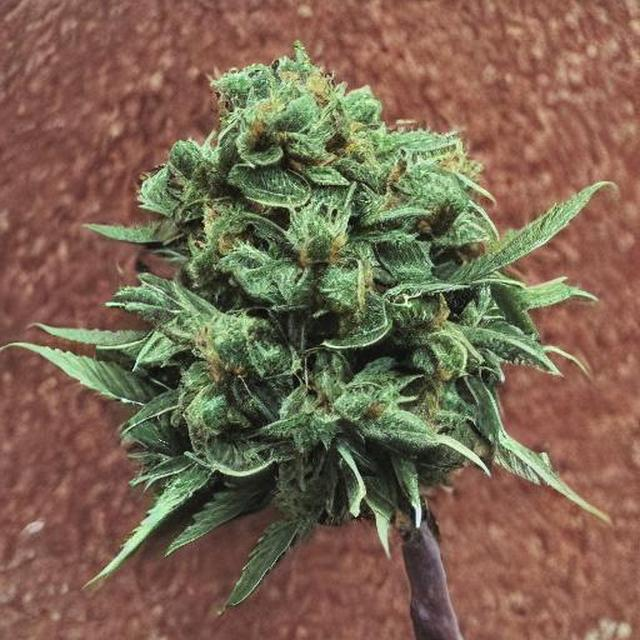Marijuana Plant: (0, 21, 639, 640)
